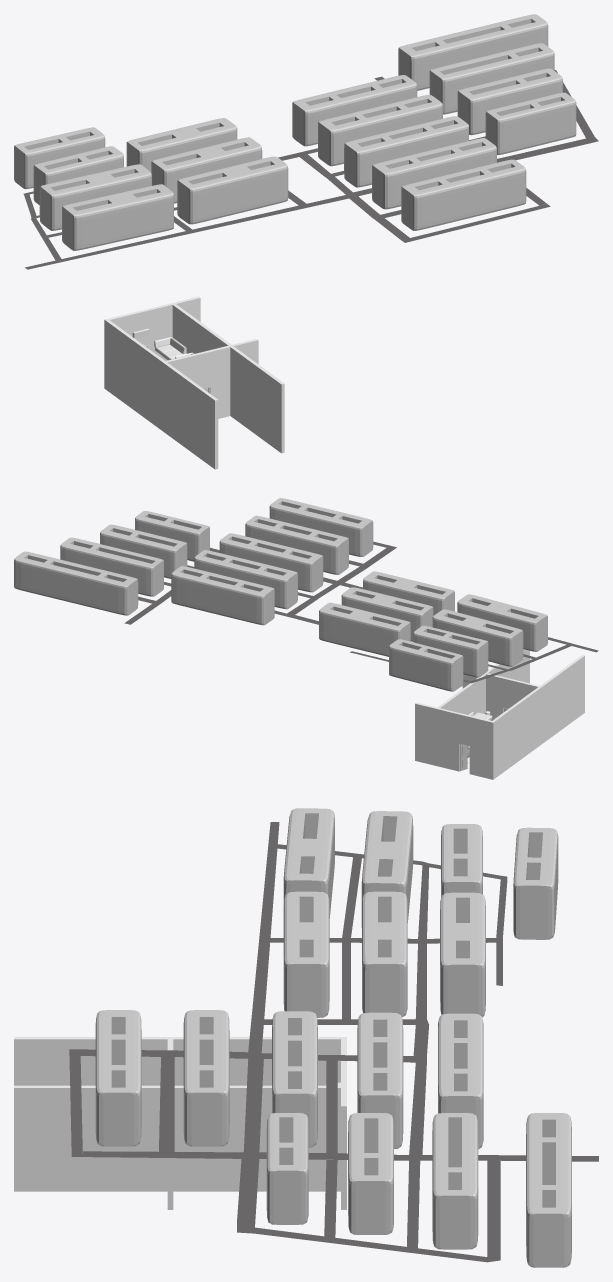
File: school5.glb
3 views of the same model, one above another, from view 1: azimuth 30°, elevation 25°; view 2: azimuth 150°, elevation 25°; view 3: azimuth 270°, elevation 25° (orthographic). The views are drawn at different scales.
Parts seen in each view (by area): view 1: 宿舍内部单体, building-西五, building-西十, building-西十三, road, building-西四, building-西一, building-西六, building-西七, building-西八, building-西三, building-西九 (+6 smaller); view 2: 宿舍内部单体, building-西四, building-西九, building-西十二, building-西三, building-西十六, building-西六, building-西五, building-西七, building-西八, building-西十四, building-西十三 (+6 smaller); view 3: 宿舍内部单体, road, building-西四, building-西六, building-西五, building-西三, building-西十, building-西十一, building-西十二, building-西二, building-西八, building-西七 (+6 smaller).
Part boxes in pixels (x1,y1,x2,y2): 宿舍内部单体: (104, 296, 284, 469); building-西五: (401, 159, 526, 230); building-西十: (177, 156, 288, 224); building-西十三: (62, 184, 173, 250); road: (23, 70, 598, 269); building-西四: (398, 14, 548, 90); building-西一: (485, 92, 576, 155); building-西六: (372, 138, 496, 209); building-西七: (344, 116, 468, 187); building-西八: (318, 95, 442, 166); building-西三: (429, 43, 554, 114); building-西九: (292, 75, 417, 146); 宿舍内部单体: (415, 649, 584, 779); building-西四: (14, 551, 138, 615); building-西九: (171, 566, 274, 625); building-西十二: (319, 602, 410, 656); building-西三: (60, 537, 163, 596); building-西十六: (389, 639, 463, 691); building-西六: (245, 515, 348, 574); building-西五: (269, 498, 373, 556); building-西七: (219, 533, 323, 592); building-西八: (194, 550, 297, 609); building-西十四: (432, 609, 523, 666); building-西十三: (457, 594, 547, 651); 宿舍内部单体: (14, 1037, 346, 1209); road: (69, 822, 598, 1262); building-西四: (526, 1113, 571, 1267); building-西六: (183, 1010, 229, 1146); building-西五: (95, 1010, 141, 1146); building-西三: (432, 1113, 478, 1249); building-西十: (283, 891, 329, 1017); building-西十一: (362, 891, 407, 1017); building-西十二: (440, 892, 485, 1017); building-西二: (348, 1113, 393, 1234); building-西八: (357, 1012, 403, 1148); building-西七: (272, 1011, 317, 1147).
Size of the model in its own units: 36.84 by 11.47 by 20.46.
Materials: 28 (5 with a texture image).
